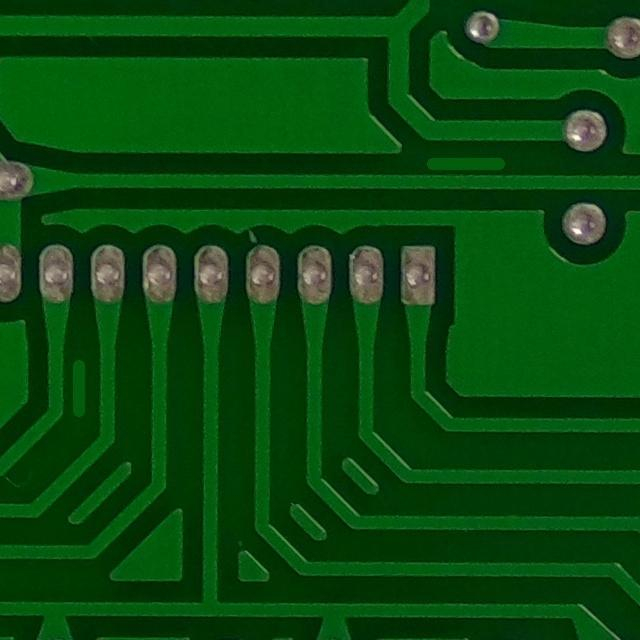spurious_copper: (415, 135, 517, 186), (57, 348, 106, 426)
